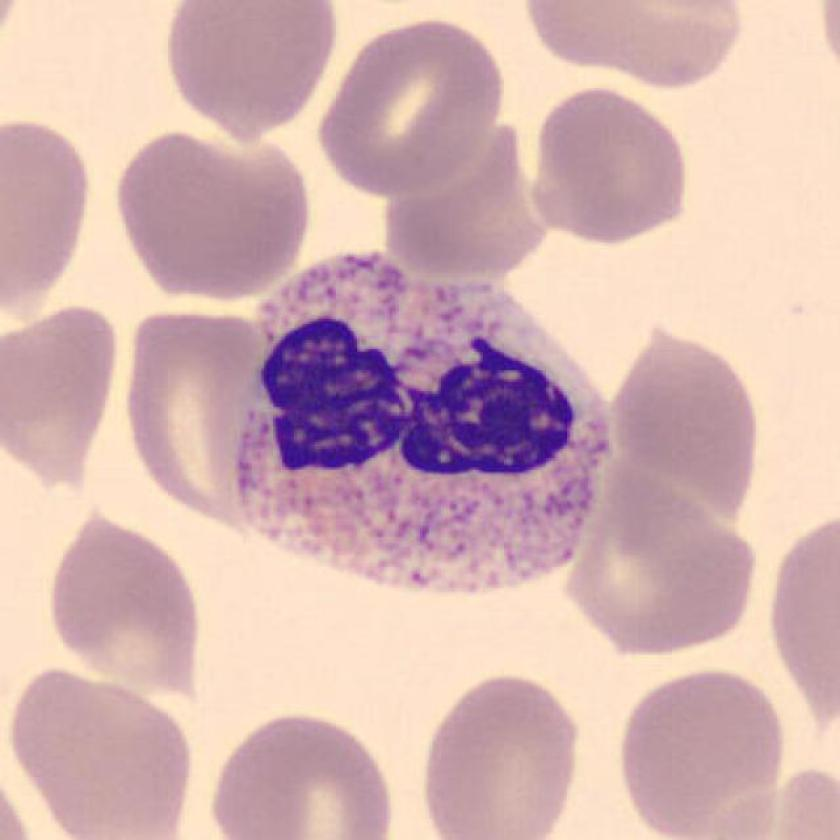neutrophil: (239, 256, 612, 593)
